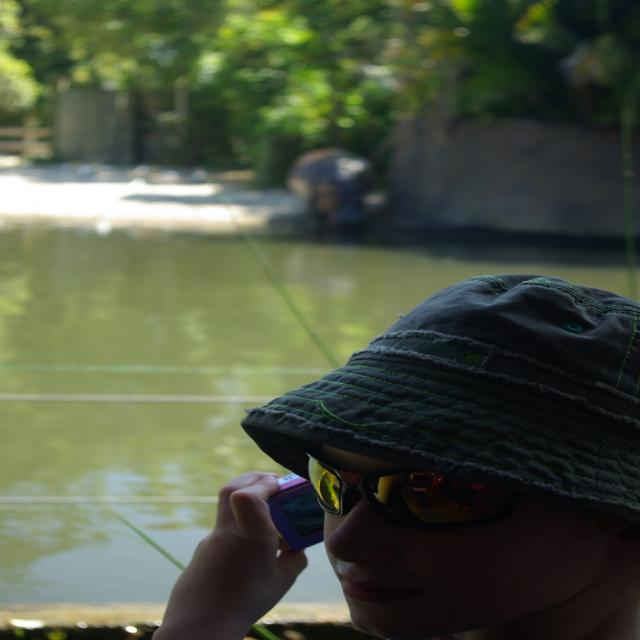Glasses: (300, 452, 561, 536)
